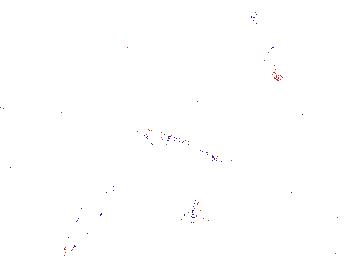X-ray fish: (261, 49, 295, 83)
glassfish: (134, 126, 233, 180), (64, 173, 123, 257)
redtail glassfish: (206, 3, 268, 35)
